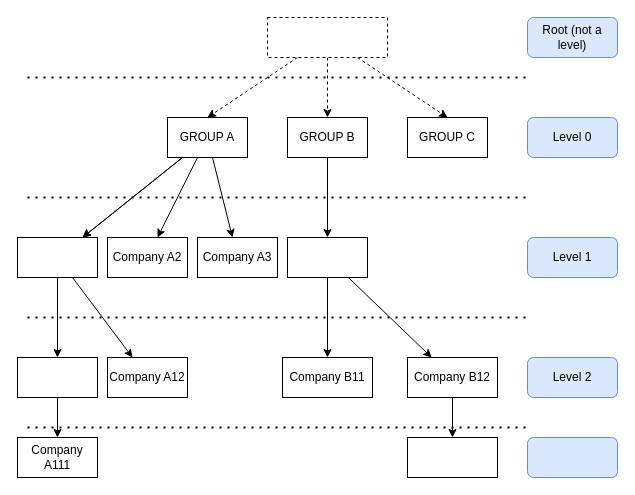
This 635x495 diagram has some shape labels left out. The box of each missing label's shape, as (x1, y1, x2, y2) in pixels:
ALL GROUPS: (266, 16, 388, 58)
Company A1: (16, 236, 98, 278)
Company A11: (16, 356, 98, 398)
Company B1: (286, 236, 368, 278)
Company B121: (406, 436, 498, 478)
Level 3: (526, 436, 618, 478)
